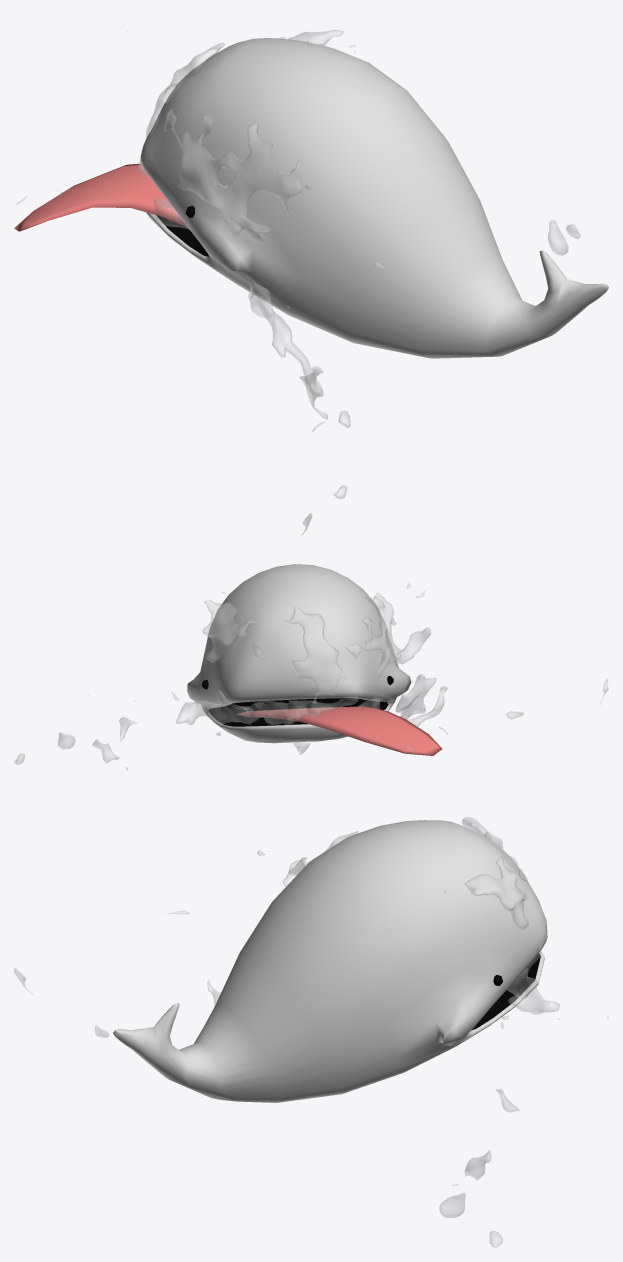
3 views of the same model, one above another, from view 1: azimuth 30°, elevation 25°; view 2: azimuth 150°, elevation 25°; view 3: azimuth 270°, elevation 25° (orthographic). The views are drawn at different scales.
Parts seen in each view (by area): view 1: Valas Runko.002, Domain; view 2: Valas Runko.002, Domain; view 3: Valas Runko.002, Domain.
Boxes of the visible parts, bbox=[...] form: Valas Runko.002: bbox=[14, 38, 608, 358]; Domain: bbox=[16, 30, 580, 535]; Valas Runko.002: bbox=[187, 564, 442, 755]; Domain: bbox=[14, 583, 608, 770]; Valas Runko.002: bbox=[113, 820, 547, 1102]; Domain: bbox=[14, 799, 608, 1247].
Size of the model in its own units: 11.56 by 5.81 by 11.62.
